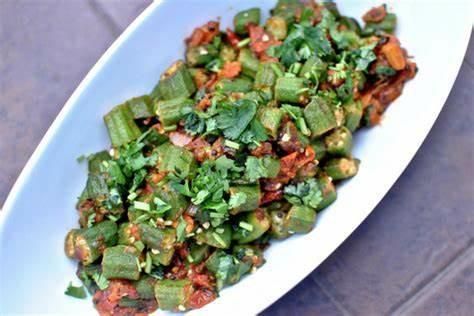BhindiMasala: (64, 0, 418, 316)
